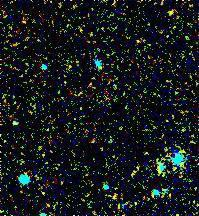star: (158, 0, 188, 27)
